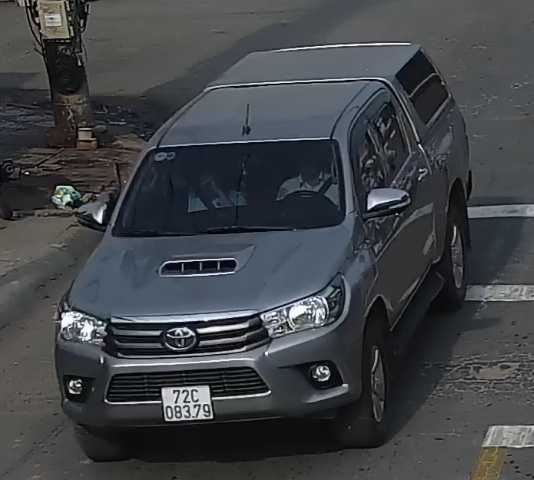vehicle plate: (160, 384, 222, 423)
